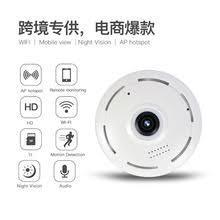maru: (92, 68, 204, 184)
